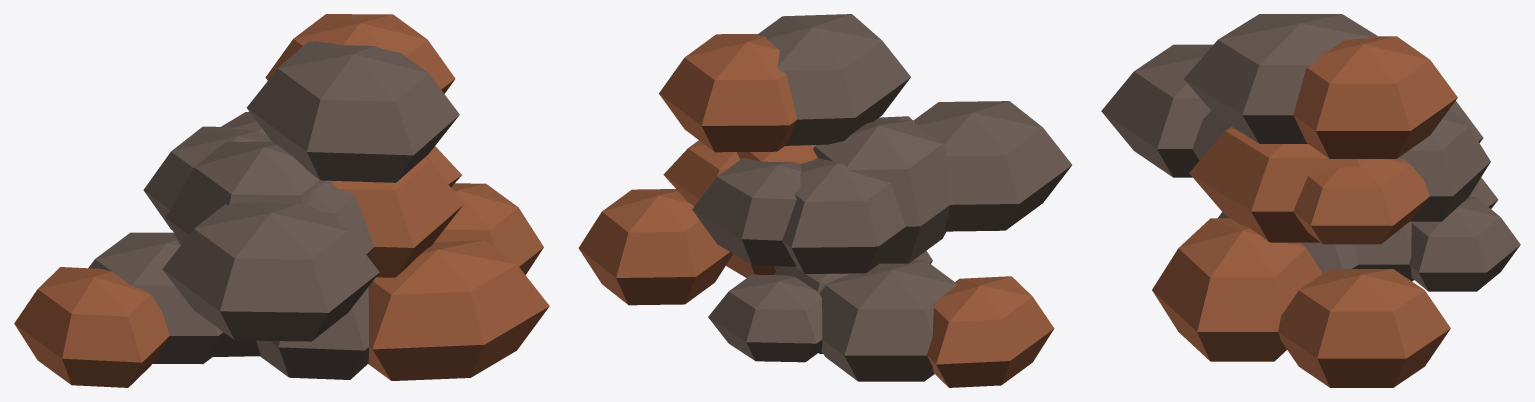
The model's file is pile_iron_ore_3.glb.
The picture shows the model from 3 angles, left to right: view 1: azimuth 30°, elevation 25°; view 2: azimuth 150°, elevation 25°; view 3: azimuth 270°, elevation 25°; orthographic projection. The views are drawn at different scales.
Visible parts, largest first — view 1: pile_iron_ore_3; view 2: pile_iron_ore_3; view 3: pile_iron_ore_3.
Boxes of the visible parts, x1,y1,x2,y2 form: pile_iron_ore_3: (14,14,549,387); pile_iron_ore_3: (578,14,1071,387); pile_iron_ore_3: (1101,14,1520,387).
Bounding box in the file's own units: 1.15 × 0.7125 × 0.9031.
